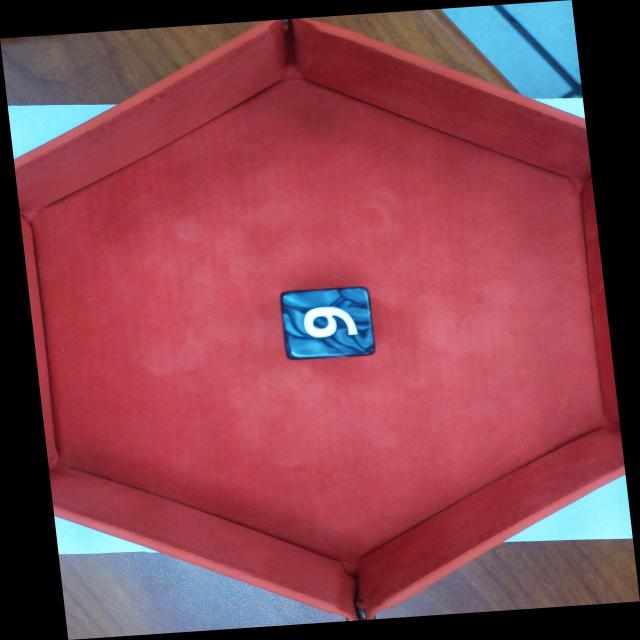dice: (282, 289, 376, 359)
